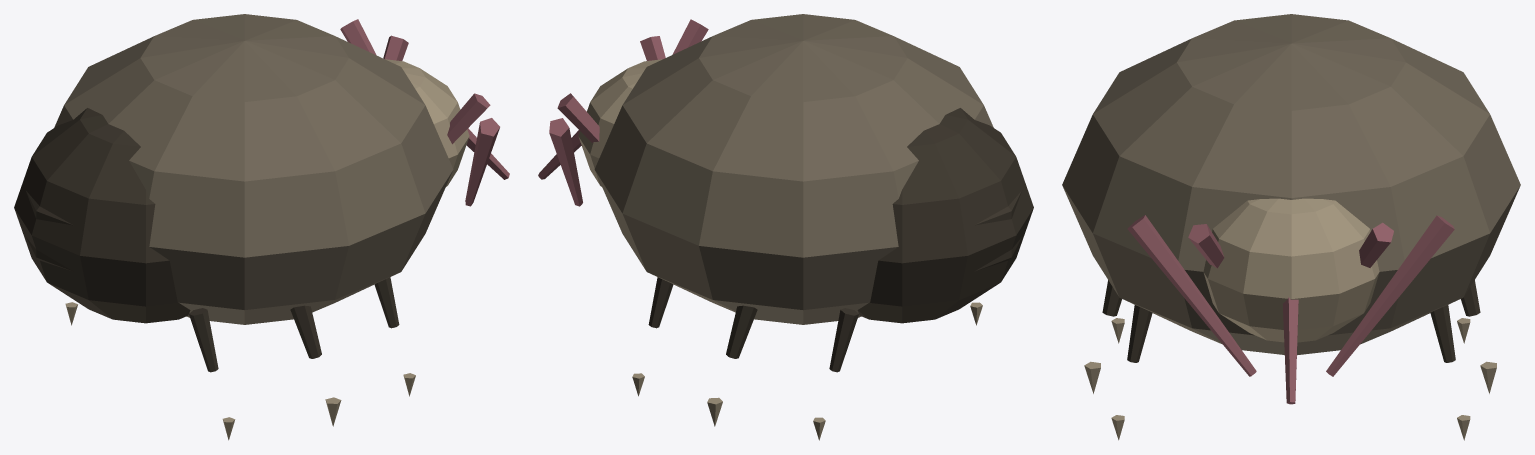
File: bl_tender.glb
The picture shows the model from 3 angles, left to right: view 1: azimuth 30°, elevation 25°; view 2: azimuth 150°, elevation 25°; view 3: azimuth 270°, elevation 25°; orthographic projection. The views are drawn at different scales.
Parts seen in each view (by area): view 1: body, leg_3_b, leg_1_a, leg_5_a; view 2: body, leg_2_a, leg_0_b, leg_4_b; view 3: body, leg_4_b, leg_5_a, leg_2_a, leg_3_b.
Boxes of the visible parts, bbox=[...] form: body: bbox=[14, 14, 509, 324]; leg_3_b: bbox=[290, 305, 341, 426]; leg_1_a: bbox=[189, 308, 235, 440]; leg_5_a: bbox=[374, 277, 415, 396]; body: bbox=[538, 14, 1033, 324]; leg_2_a: bbox=[707, 305, 757, 426]; leg_0_b: bbox=[813, 308, 858, 440]; leg_4_b: bbox=[632, 277, 673, 396]; body: bbox=[1062, 14, 1520, 404]; leg_4_b: bbox=[1430, 305, 1470, 440]; leg_5_a: bbox=[1111, 305, 1152, 440]; leg_2_a: bbox=[1461, 280, 1496, 393]; leg_3_b: bbox=[1084, 280, 1121, 393].
Size of the model in its own units: 25.1 by 16.07 by 19.
